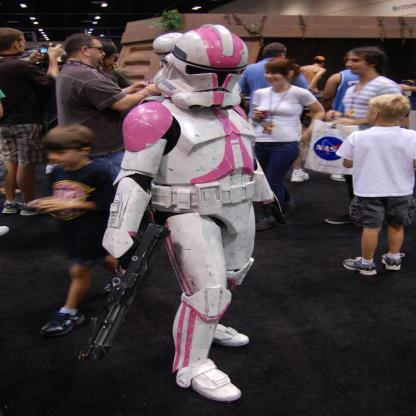Helmet: (162, 28, 250, 68)
